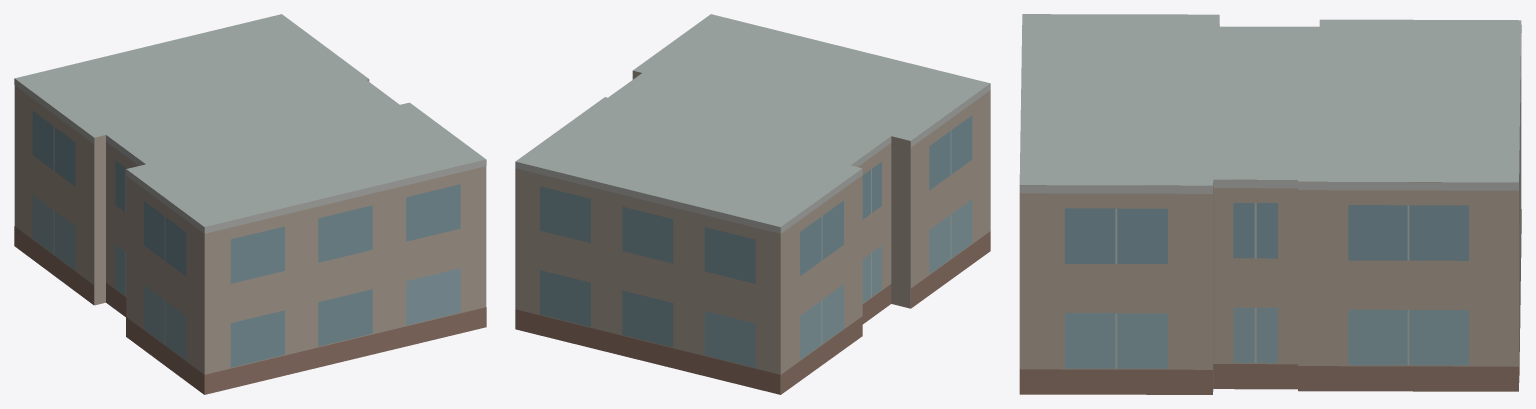
File: survey-upis-32837907.glb
The picture shows the model from 3 angles, left to right: view 1: azimuth 30°, elevation 25°; view 2: azimuth 150°, elevation 25°; view 3: azimuth 270°, elevation 25°; orthographic projection. The views are drawn at different scales.
Parts seen in each view (by area): view 1: survey-upis-32837907.tmp; view 2: survey-upis-32837907.tmp; view 3: survey-upis-32837907.tmp.
Part boxes in pixels (x1=…): survey-upis-32837907.tmp: x1=14, y1=14, x2=486, y2=394; survey-upis-32837907.tmp: x1=515, y1=14, x2=990, y2=394; survey-upis-32837907.tmp: x1=1019, y1=14, x2=1521, y2=394.
Bounding box in the file's own units: 10.73 × 6.1 × 13.26.
